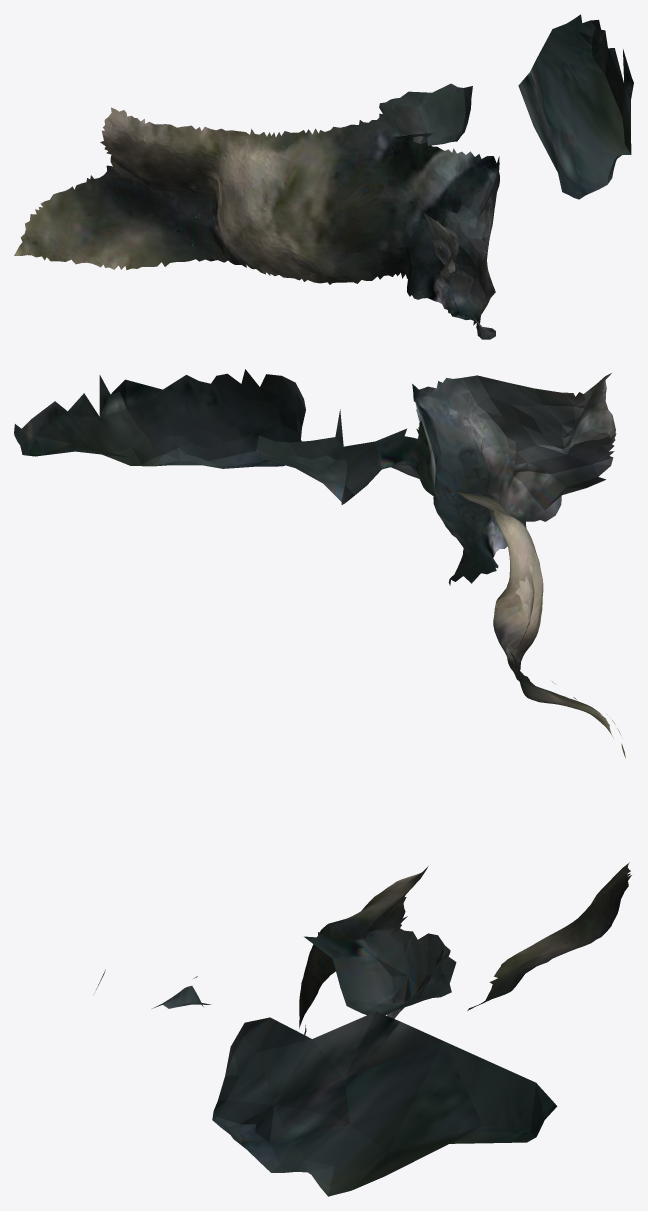
File: tile_0412.gltf
3 renders of one model, top to bottom at view 1: azimuth 30°, elevation 25°; view 2: azimuth 150°, elevation 25°; view 3: azimuth 270°, elevation 25°, orthographic. The views are drawn at different scales.
Parts seen in each view (by area): view 1: defaultobject; view 2: defaultobject; view 3: defaultobject.
Boxes of the visible parts, x1,y1,x2,y2 form: defaultobject: (14,14,633,339); defaultobject: (14,369,625,758); defaultobject: (95,862,631,1196).
Bounding box in the file's own units: 0.5584 × 0.1425 × 0.3761.
Materials: 2 (2 with a texture image).
